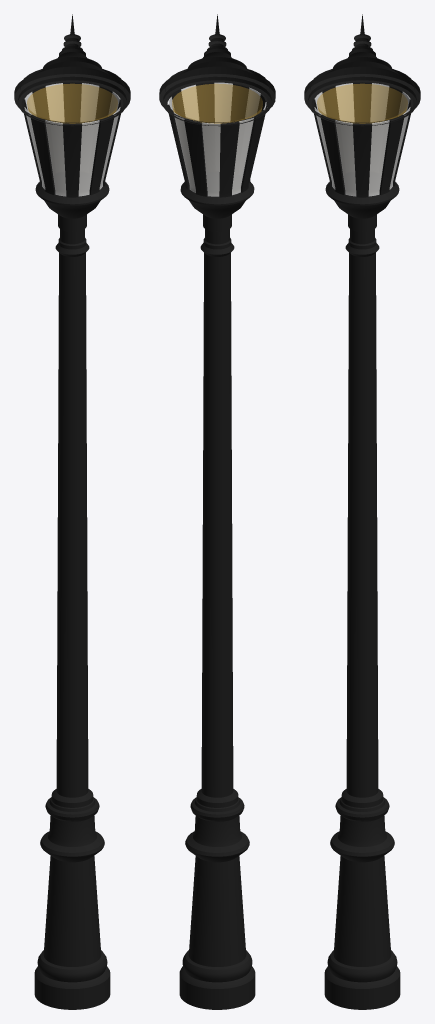
The model's file is uploads_files_4426520_STRT_5.fbx.
3 views of the same model, side by side, from view 1: azimuth 90°, elevation 25°; view 2: azimuth 150°, elevation 25°; view 3: azimuth 270°, elevation 25° (orthographic).
Visible parts, largest first — view 1: Circle.016, Circle.019, Circle.017, Circle.018; view 2: Circle.016, Circle.019, Circle.017, Circle.018; view 3: Circle.016, Circle.019, Circle.017, Circle.018.
Part boxes in pixels (x1,y1,x2,y2): Circle.016: [14, 14, 130, 1009]; Circle.019: [21, 82, 123, 197]; Circle.017: [24, 83, 120, 196]; Circle.018: [27, 83, 117, 123]; Circle.016: [159, 14, 275, 1009]; Circle.019: [166, 82, 268, 197]; Circle.017: [168, 82, 266, 196]; Circle.018: [172, 83, 262, 123]; Circle.016: [304, 14, 420, 1009]; Circle.019: [311, 82, 413, 197]; Circle.017: [314, 83, 410, 196]; Circle.018: [317, 83, 407, 123].
Size of the model in its own units: 40.61 by 377 by 40.61.
